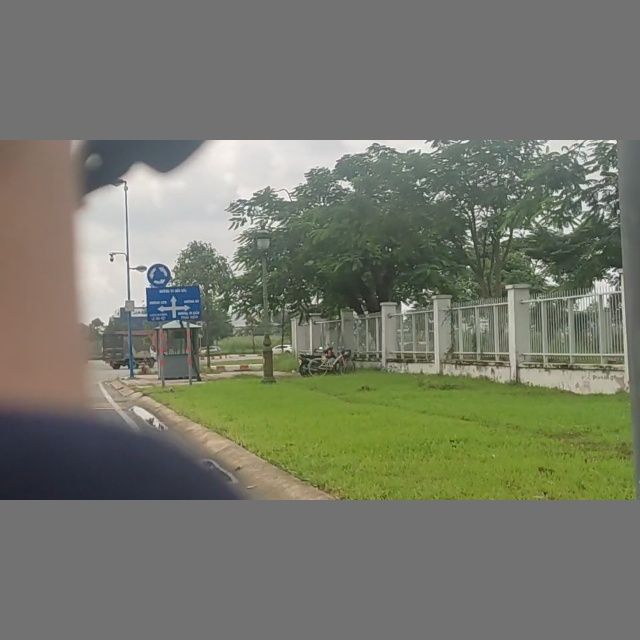R.303: (145, 261, 172, 287)
